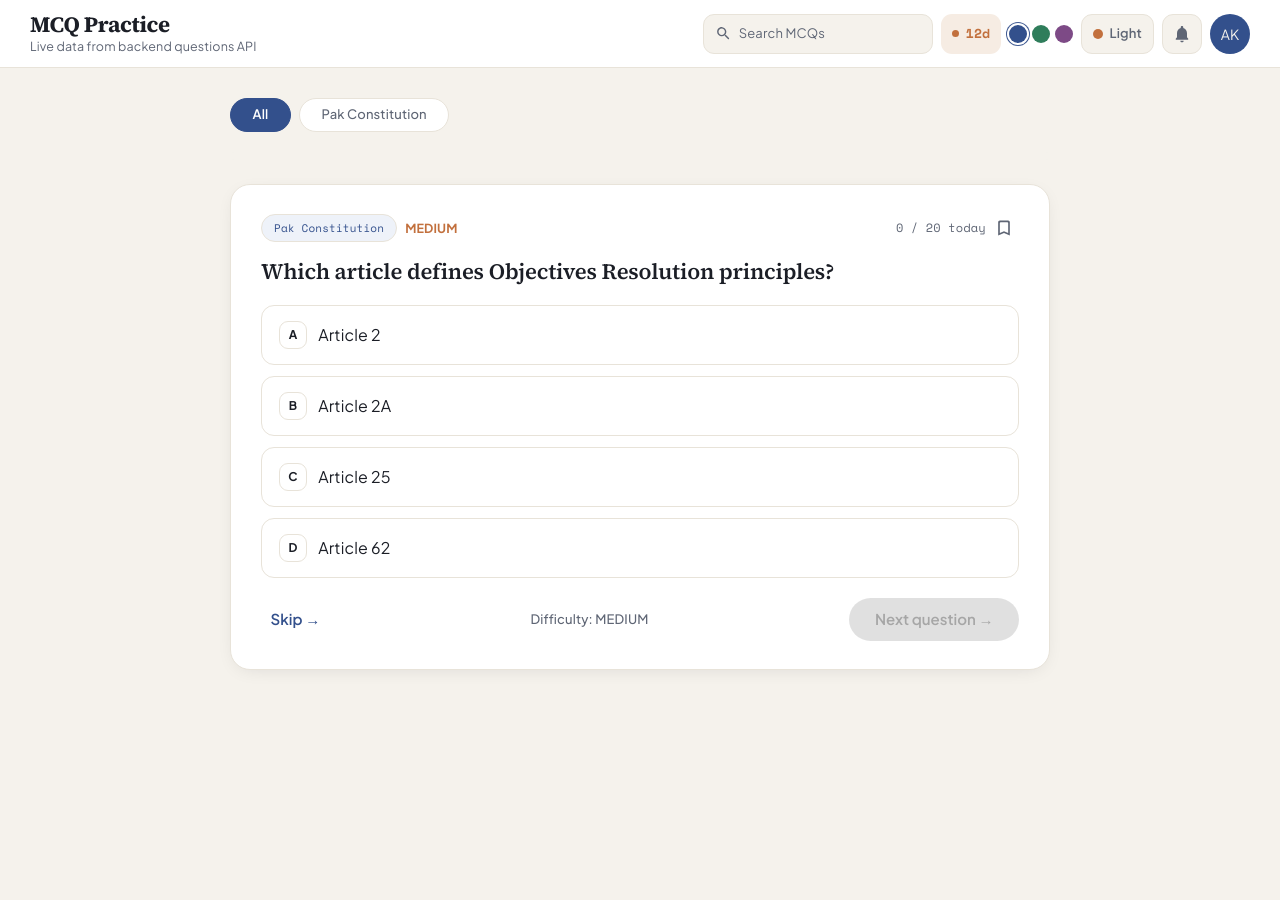
Scenario: PracticePage › reveals answer flow and does not refetch the question on check
Check: the heading "Which article defines Objectives Resolution principles?" is shown, box [261, 256, 834, 286]
Click the button with aria-label "Option B: Article 2A" at (355,406), box [261, 376, 1019, 436]
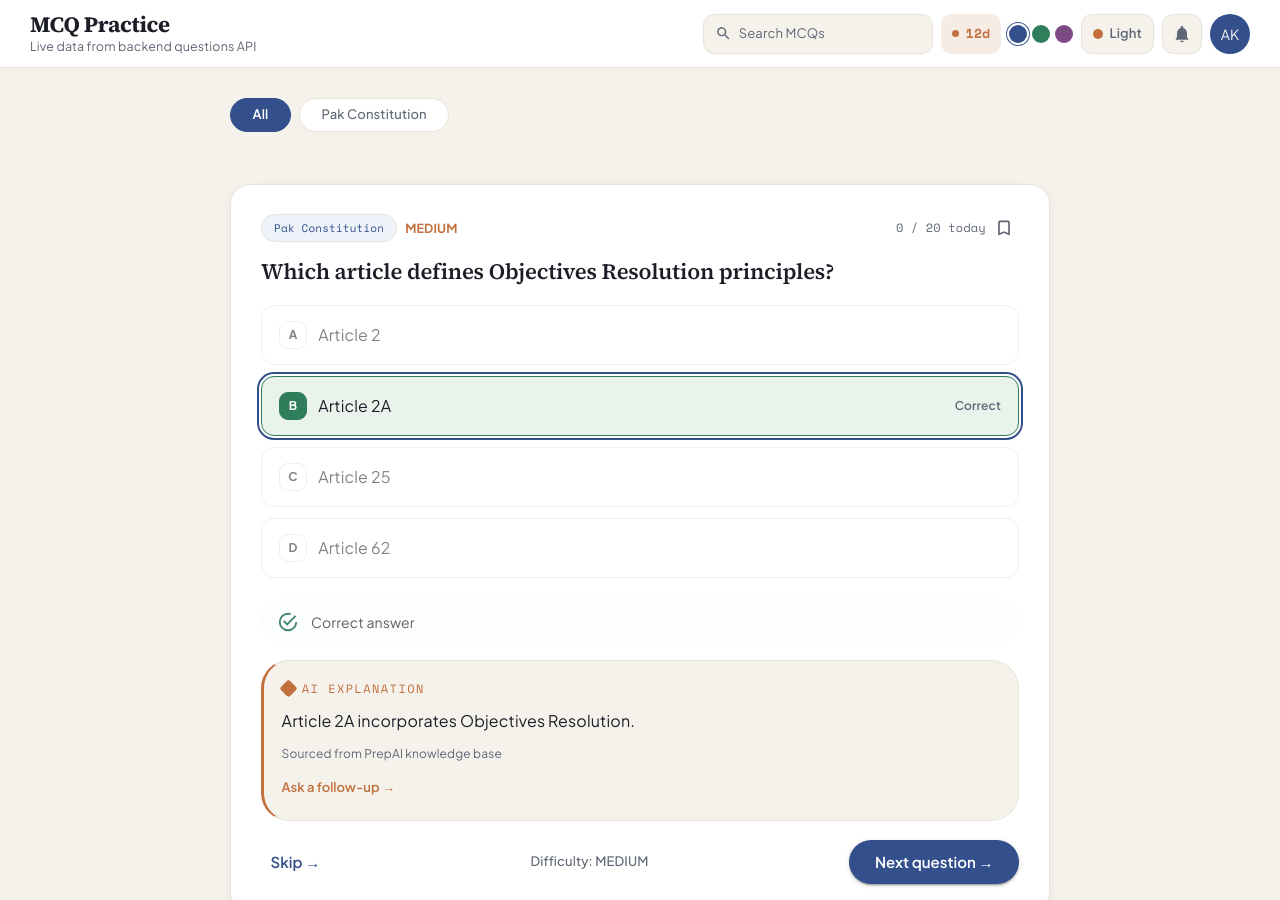
Check: the text "Correct answer" is shown, box [311, 613, 415, 631]
Check: the button "Next question →" is enabled, box [849, 840, 1019, 884]
